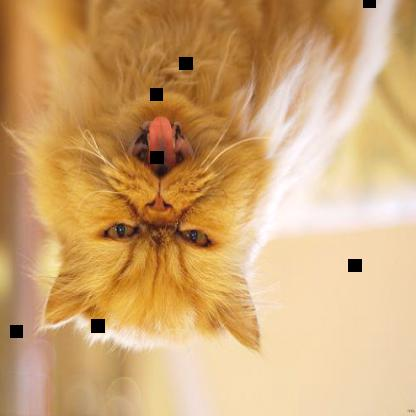cat: (39, 1, 387, 353)
